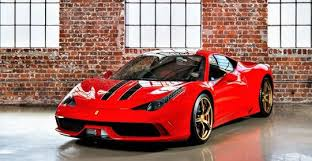car: (43, 44, 295, 154)
